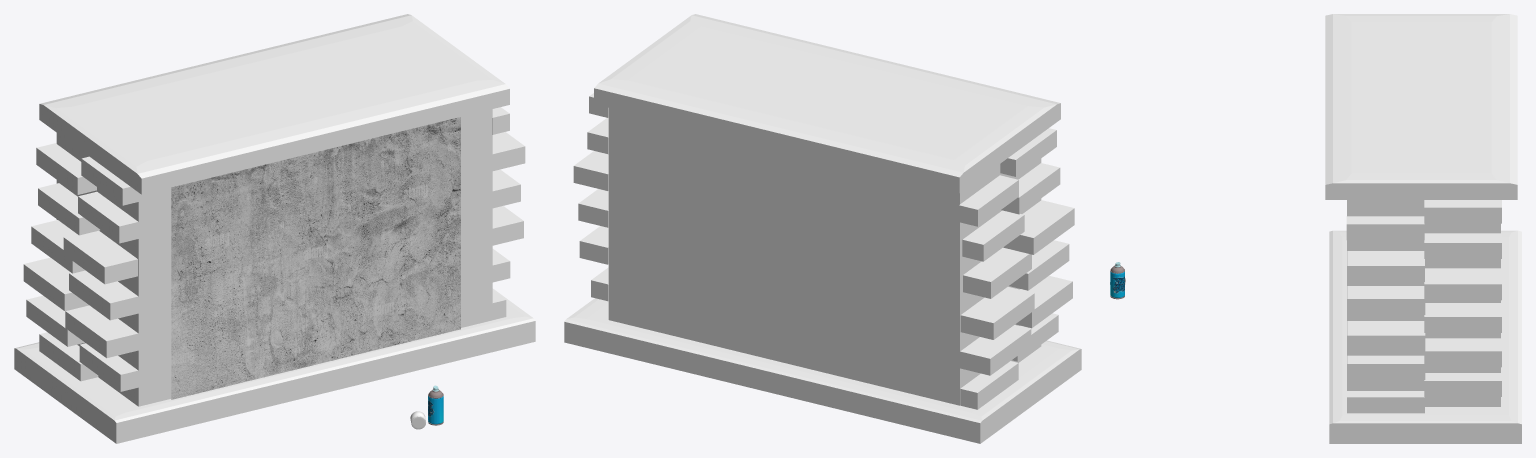
Rendered from Community_Brick_Wall.glb.
3 renders of one model, left to right at view 1: azimuth 30°, elevation 25°; view 2: azimuth 150°, elevation 25°; view 3: azimuth 270°, elevation 25°, orthographic. The views are drawn at different scales.
Visible parts, largest first — view 1: Msg Display, Top Slab, Bottom Slab, Brick Wall, Brick.014, Brick.019, Brick.017, Brick.018, Brick.012, Brick.013, Brick.015, Brick.021 (+8 smaller); view 2: Brick Wall, Top Slab, Bottom Slab, Brick.018, Brick.016, Brick.020, Brick.014, Brick.015, Brick.013, Brick.022, Brick.019, Brick.012 (+7 smaller); view 3: Top Slab, Bottom Slab, Brick Wall, Brick.002, Brick.005, Brick.003, Brick.011, Brick.007, Brick.001, Brick, Brick.004, Brick.008 (+4 smaller).
Part boxes in pixels (box(x1,y1,x2,y2)): Msg Display: box(171, 117, 460, 399); Top Slab: box(39, 14, 509, 194); Bottom Slab: box(14, 288, 535, 443); Brick Wall: box(56, 109, 492, 406); Brick.014: box(63, 230, 137, 284); Brick.019: box(65, 305, 138, 358); Brick.017: box(69, 270, 138, 320); Brick.018: box(23, 257, 88, 311); Brick.012: box(78, 191, 138, 243); Brick.013: box(36, 143, 96, 194); Brick.015: box(38, 183, 99, 235); Brick.021: box(79, 343, 138, 391); Brick Wall: box(608, 108, 1041, 405); Top Slab: box(594, 14, 1060, 193); Bottom Slab: box(564, 298, 1081, 443); Brick.018: box(960, 287, 1034, 339); Brick.016: box(963, 247, 1031, 298); Brick.020: box(960, 325, 1031, 375); Brick.014: box(1003, 200, 1074, 254); Brick.015: box(962, 210, 1024, 261); Brick.013: box(959, 175, 1018, 226); Brick.022: box(960, 361, 1018, 409); Brick.019: box(1016, 275, 1072, 328); Brick.012: box(1001, 163, 1060, 214); Top Slab: box(1325, 14, 1517, 199); Bottom Slab: box(1329, 230, 1521, 443); Brick Wall: box(1347, 200, 1500, 406); Brick.002: box(1424, 268, 1501, 300); Brick.005: box(1347, 321, 1425, 351); Brick.003: box(1347, 251, 1424, 281); Brick.011: box(1424, 303, 1501, 332); Brick.007: box(1424, 338, 1501, 367); Brick.001: box(1347, 286, 1425, 314); Brick: box(1424, 233, 1501, 258); Brick.004: box(1346, 216, 1424, 240); Brick.008: box(1347, 355, 1425, 379).
Bounding box in the file's own units: 11.93 × 7.12 × 10.69.
Materials: 31 (2 with a texture image).
